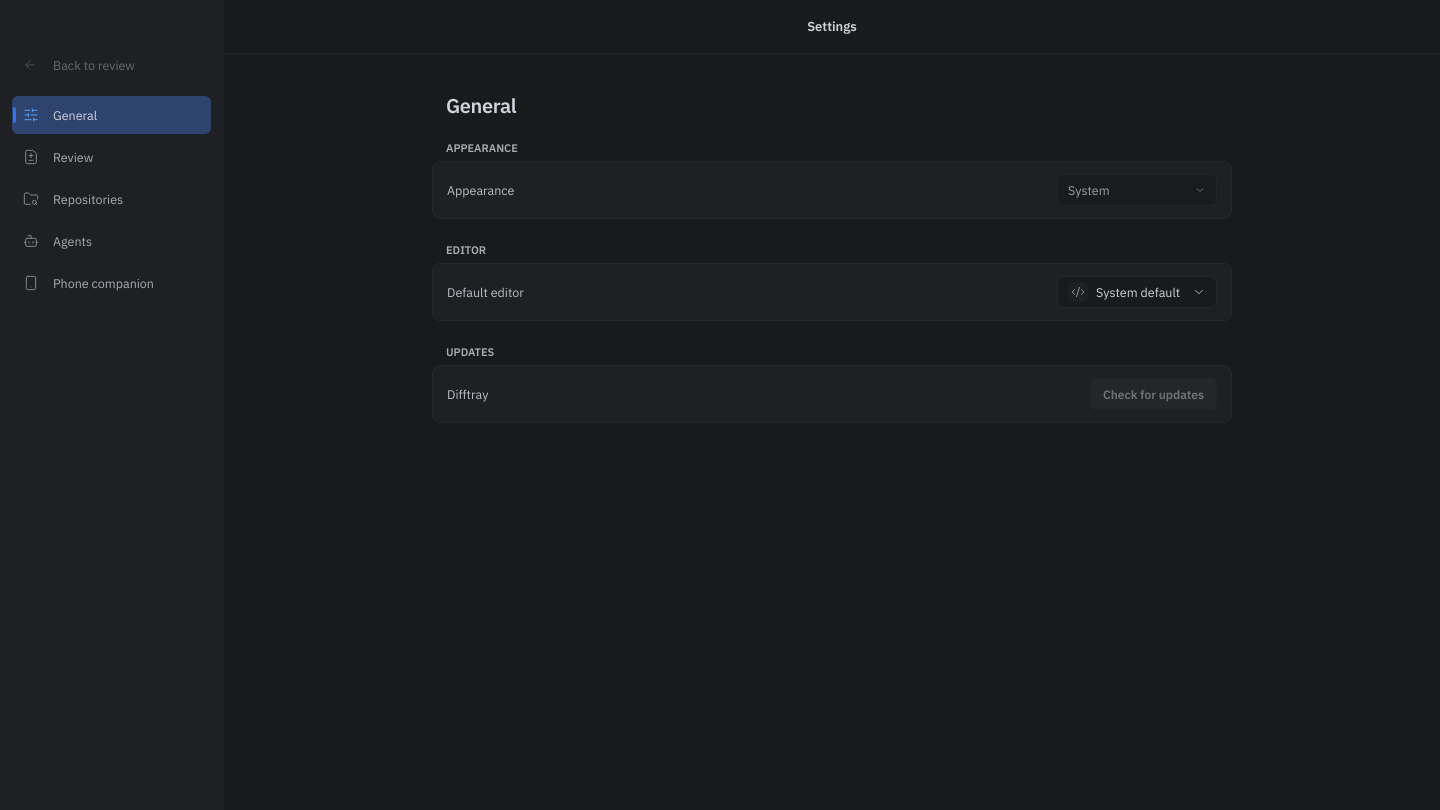
Scenario: SettingsPanel › disables controls while settings are saving
Check: the heading with id "settings-page-title" reads "General", box [446,92,516,119]
Check: the button with aria-label "Editor: System default" is disabled, box [1057,276,1217,308]
Click the button "Repositories": point(112, 199) [12,180,211,218]
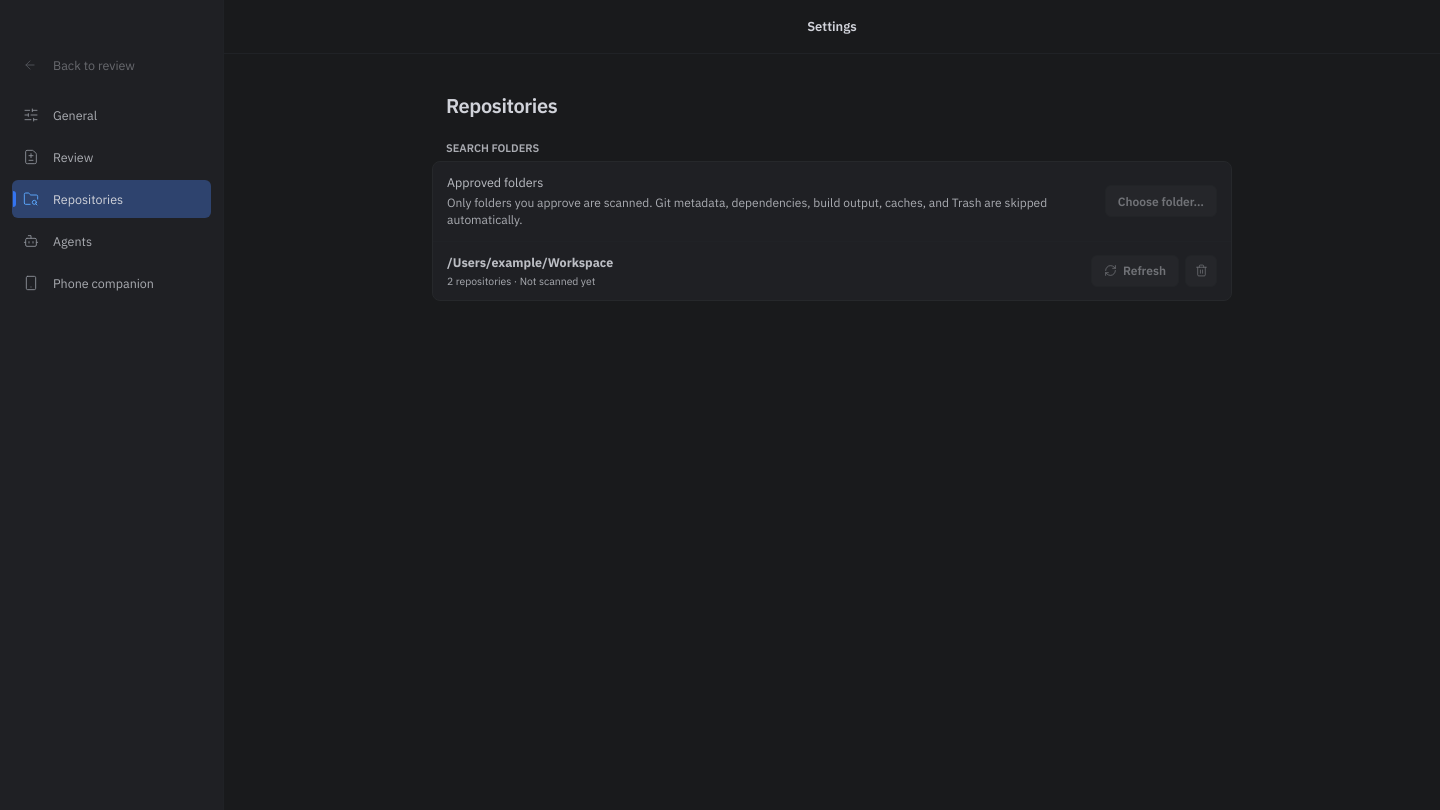
Check: the heading with id "settings-page-title" reads "Repositories", box [446,92,557,119]
Check: the button named "Remove /Users/example/Workspace" is disabled, box [1185,255,1217,287]
